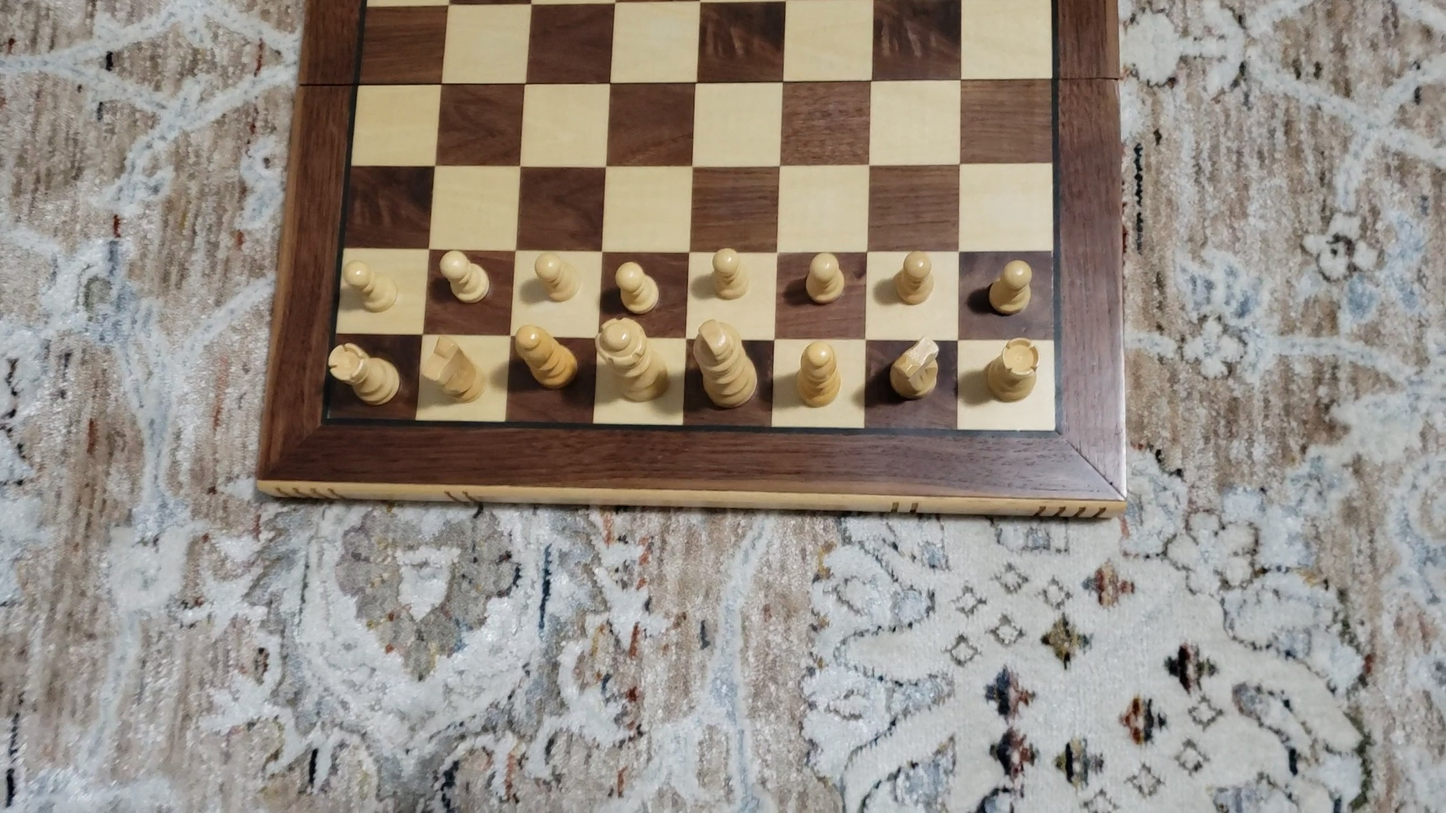white-bishop: (509, 322, 579, 391), (793, 338, 845, 412)
white-king: (687, 317, 763, 413)
white-knight: (427, 331, 486, 405), (886, 333, 943, 404)
white-pawn: (979, 255, 1040, 322), (341, 257, 402, 316), (889, 244, 939, 309), (436, 247, 492, 305), (799, 249, 851, 308), (530, 249, 580, 305), (707, 242, 752, 303), (613, 258, 661, 315)
white-queen: (594, 316, 672, 405)
white-rook: (329, 340, 401, 408), (980, 333, 1044, 407)
